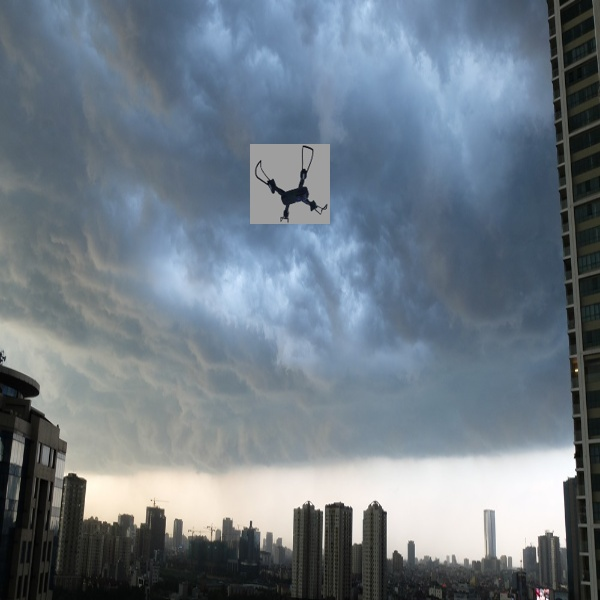drone: (250, 142, 330, 226)
